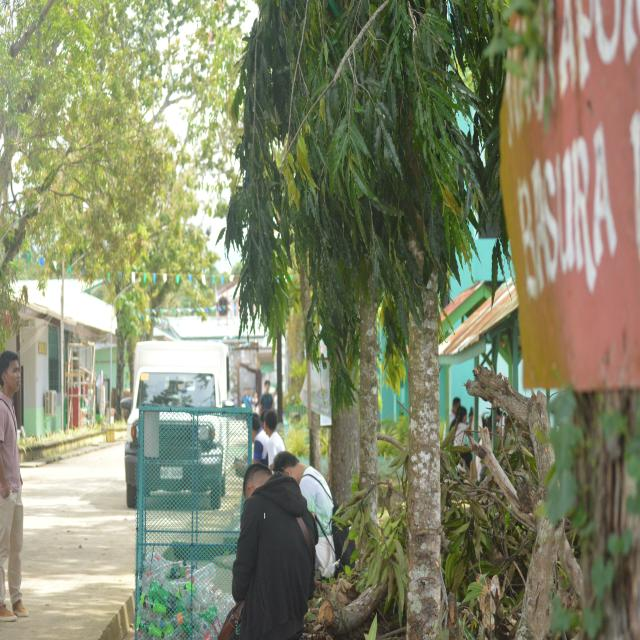person: (232, 465, 317, 639), (274, 452, 339, 578), (0, 351, 28, 621), (264, 410, 285, 469), (253, 413, 268, 466), (258, 381, 273, 415), (449, 397, 460, 424)
